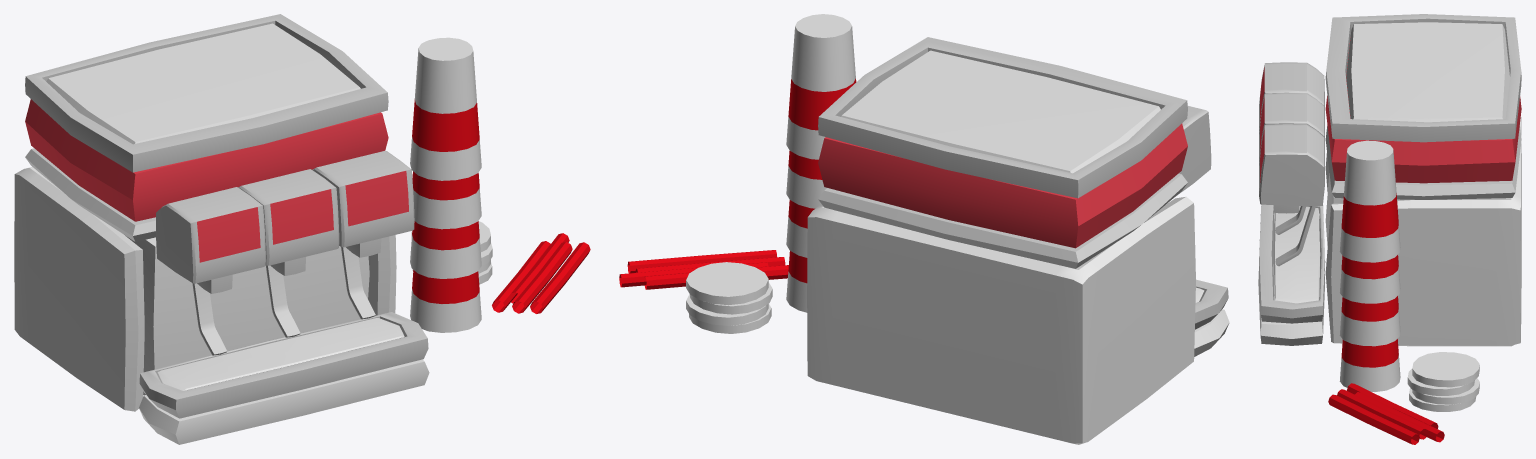
The model's file is SodaMachine.fbx.
3 renders of one model, left to right at view 1: azimuth 30°, elevation 25°; view 2: azimuth 150°, elevation 25°; view 3: azimuth 270°, elevation 25°, orthographic. The views are drawn at different scales.
Visible parts, largest first — view 1: Cube.040; view 2: Cube.040; view 3: Cube.040.
Boxes of the visible parts, x1,y1,x2,y2 form: Cube.040: [14, 14, 590, 444]; Cube.040: [619, 14, 1229, 444]; Cube.040: [1258, 14, 1521, 444].
Size of the model in its own units: 188 by 94.45 by 98.12.
